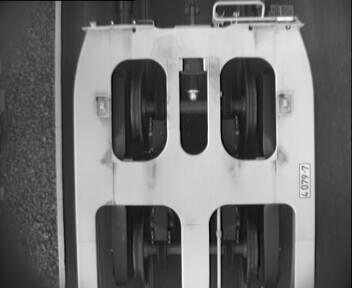twist_lock_2: (98, 50, 284, 169)
